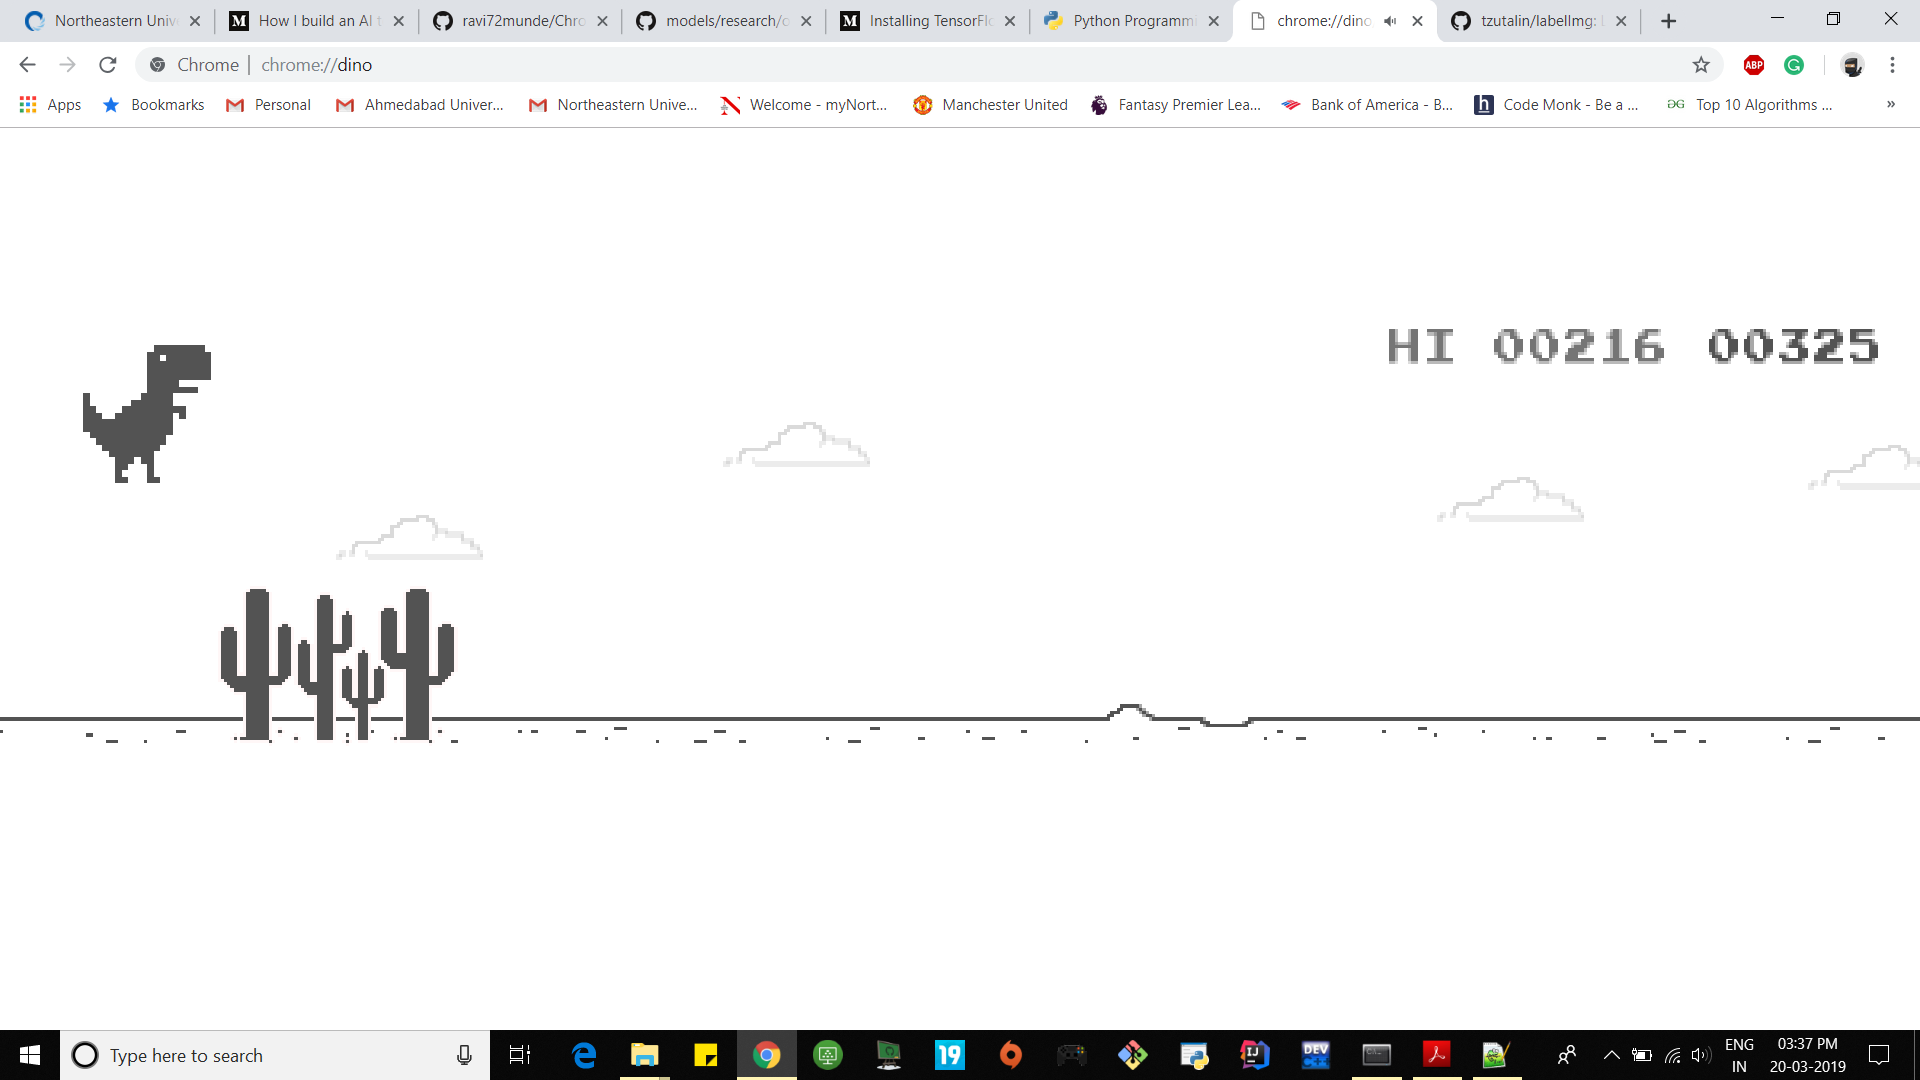cactus-4: (219, 585, 455, 745)
dino: (80, 345, 211, 487)
